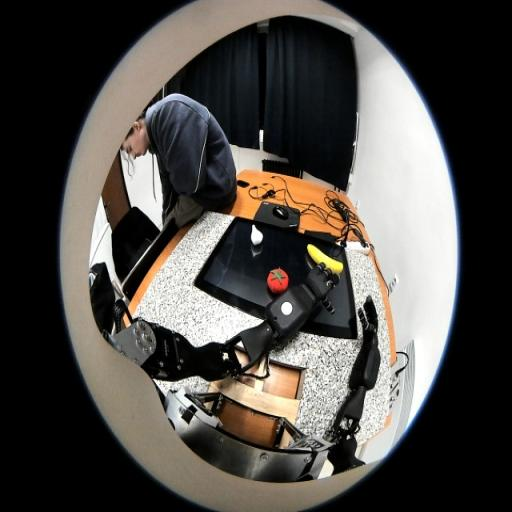Banana: (308, 244, 344, 274)
LeftHand: (307, 270, 329, 292)
Onion: (250, 224, 264, 245)
RightHand: (362, 318, 378, 337)
Tomato: (267, 266, 289, 294)
